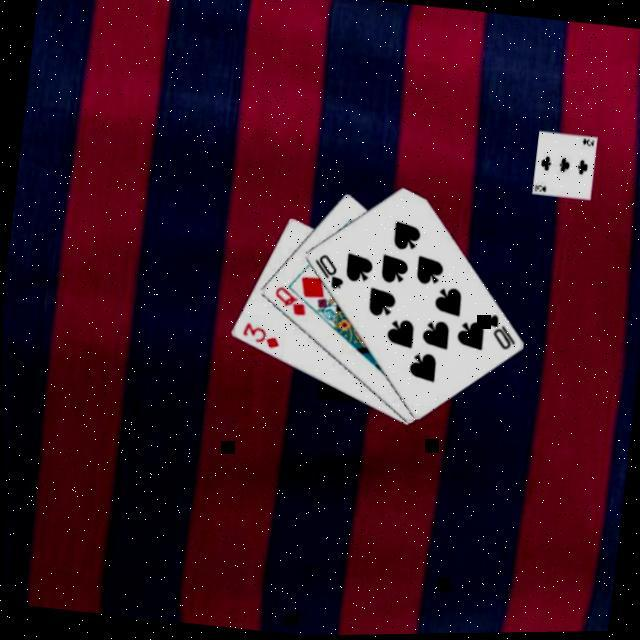10S: (308, 248, 349, 292), (481, 310, 522, 354)
3D: (238, 317, 286, 351)
QD: (270, 281, 312, 318)
